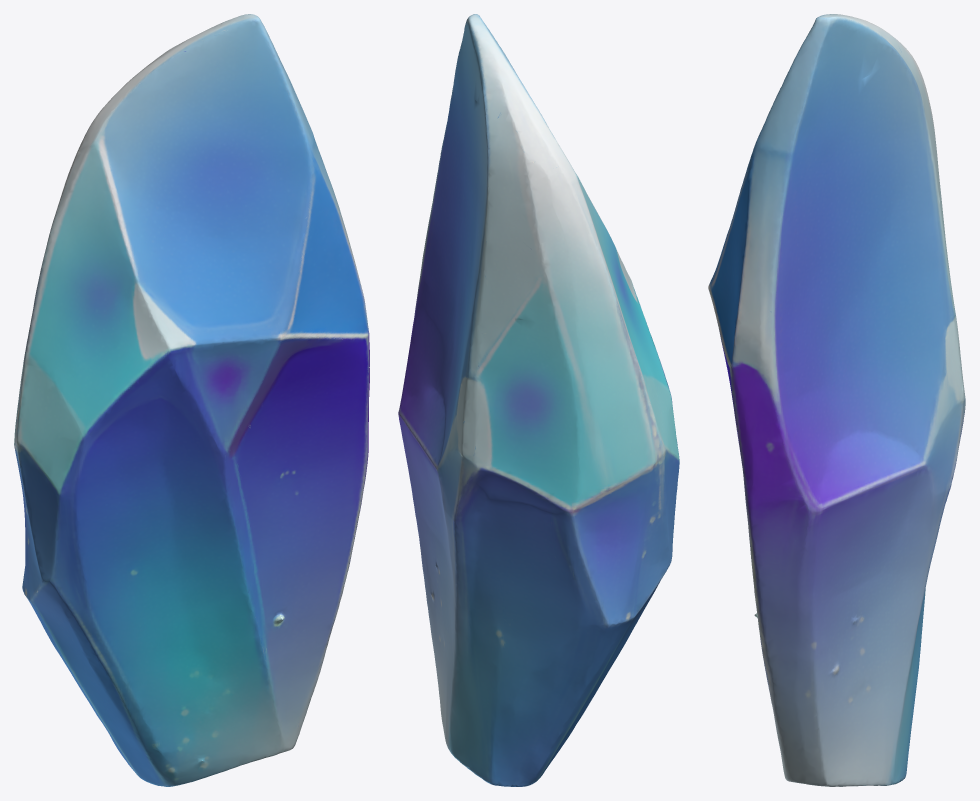
File: Crystal.glb
3 views of the same model, side by side, from view 1: azimuth 30°, elevation 25°; view 2: azimuth 150°, elevation 25°; view 3: azimuth 270°, elevation 25° (orthographic). The views are drawn at different scales.
Visible parts, largest first — view 1: mesh; view 2: mesh; view 3: mesh.
Part boxes in pixels (box(x1,y1,x2,y2)): mesh: box(14, 14, 369, 786); mesh: box(398, 14, 679, 786); mesh: box(708, 14, 965, 786).
Size of the model in its own units: 0.4173 by 1 by 0.2956.
Materials: 1 (1 with a texture image).
